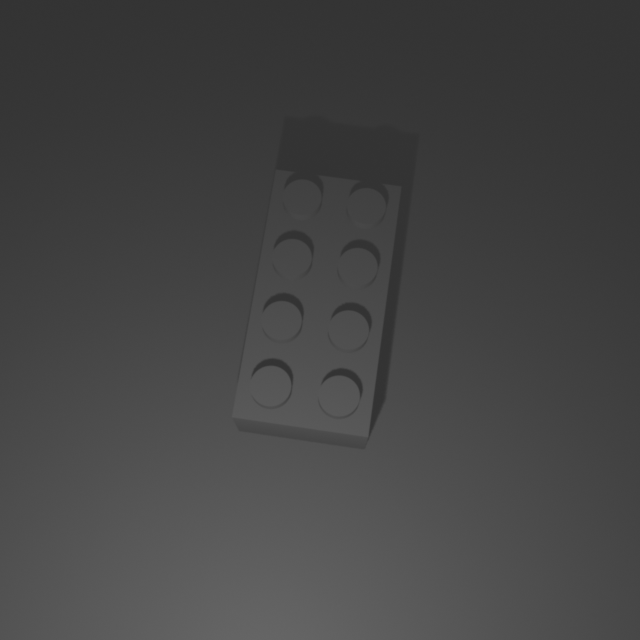lego_2x4: (231, 164, 403, 449)
